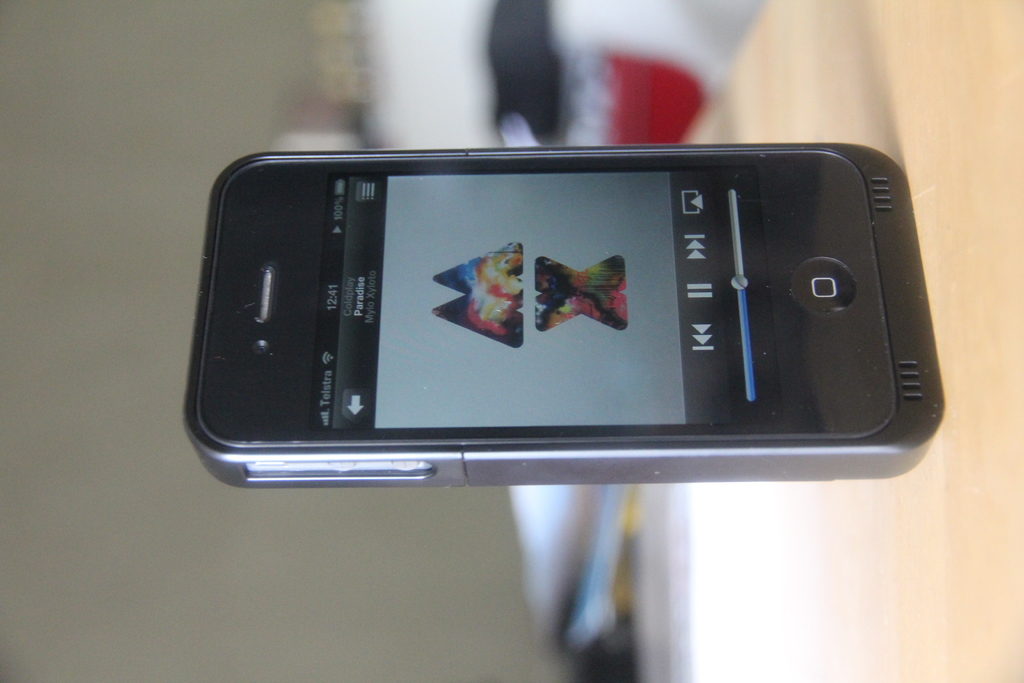Mobile-phone: (189, 139, 948, 494)
